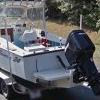Boat: (0, 13, 92, 93)
